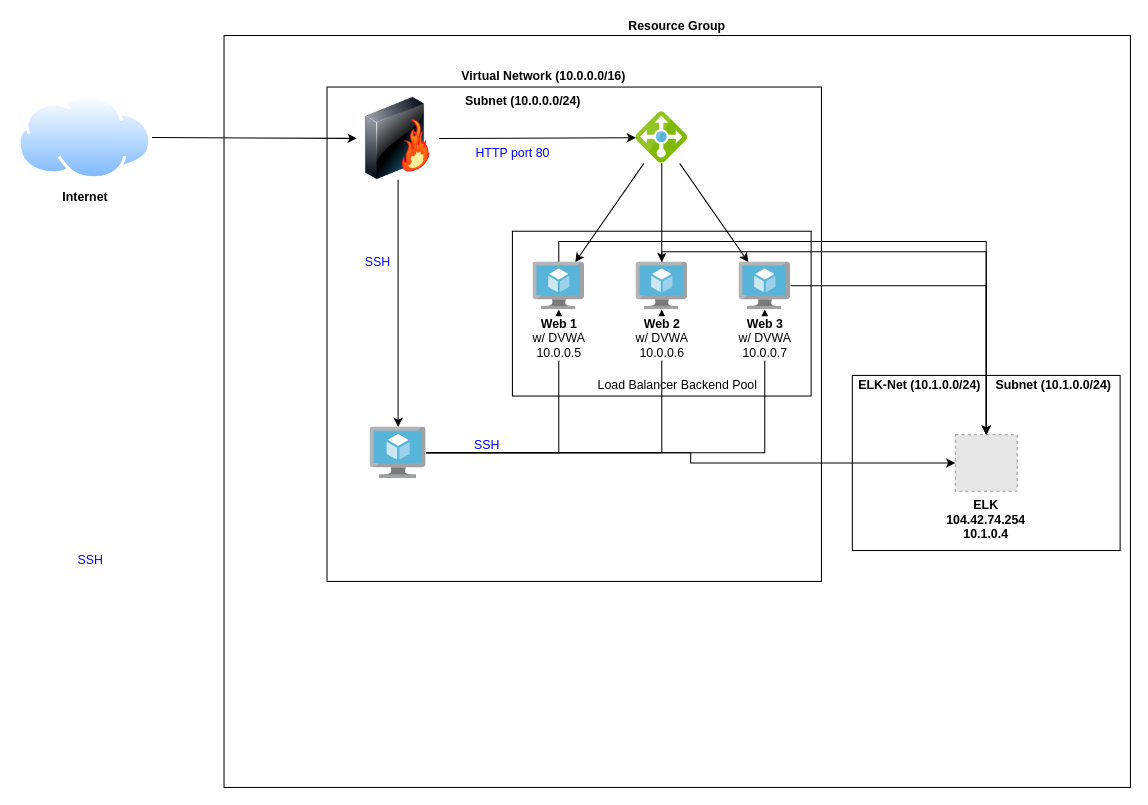
This 1148x805 diagram has some shape labels left out. Grey dashed boxes stand in for pictures. Each missing label, with the centre of its shape:
"JumpBox w/ Docker and Ansible 52.229.15.79 10.0.0.4" goes at point 398,452.
"Load Balancer 52.250.111.179" goes at point 661,137.
"RedTeamSG" goes at point 397,138.
